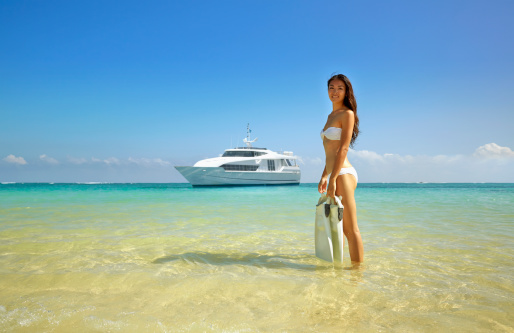em pe: (306, 71, 366, 270)
